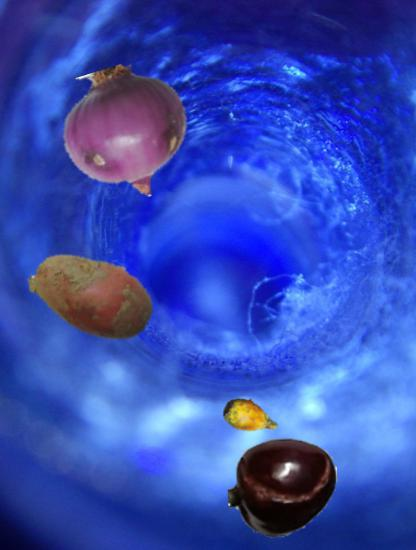Cactus: (222, 388, 280, 446)
Cherry: (228, 433, 338, 543)
Onion: (59, 65, 195, 201)
Potato: (27, 227, 159, 359)
